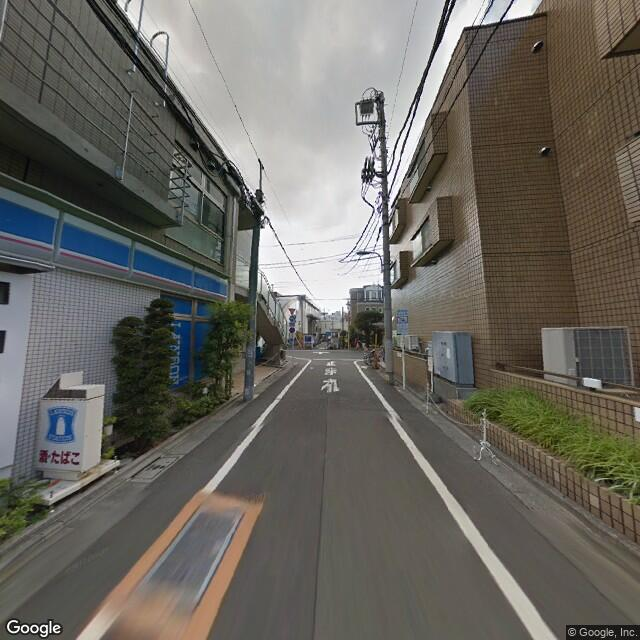lawson: (2, 185, 234, 300), (161, 296, 206, 390), (39, 403, 83, 450)
